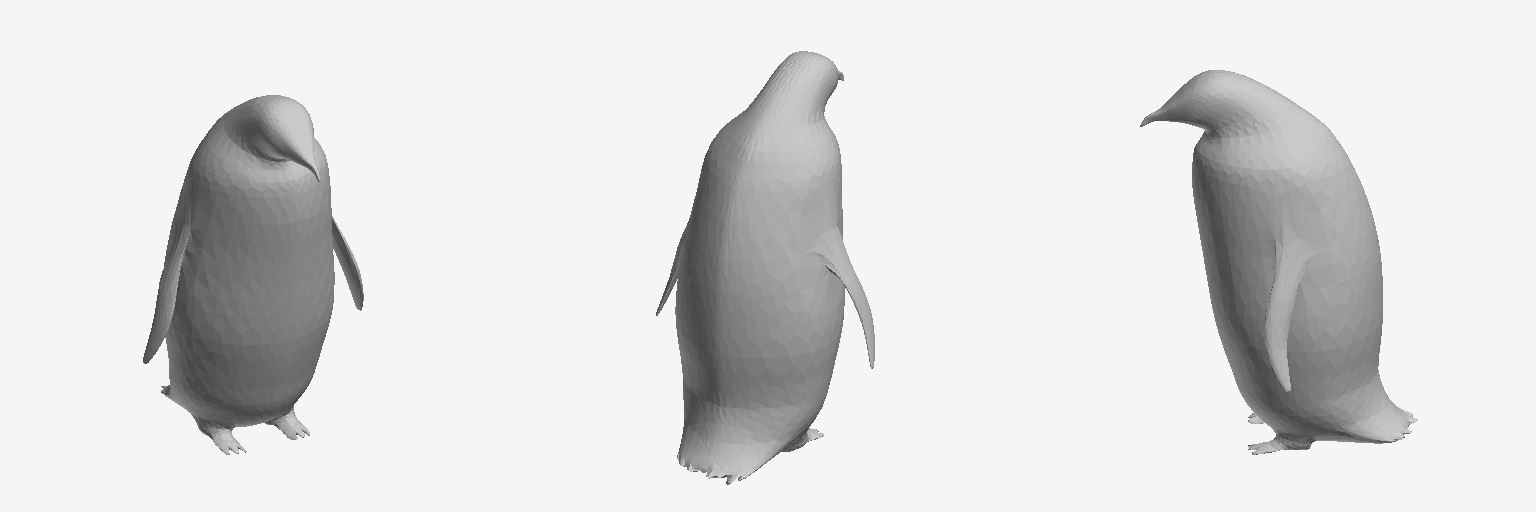
Rendered from penguin.obj.
3 renders of one model, left to right at view 1: azimuth 30°, elevation 25°; view 2: azimuth 150°, elevation 25°; view 3: azimuth 270°, elevation 25°, orthographic.
Parts seen in each view (by area): view 1: Penguin; view 2: Penguin; view 3: Penguin.
Part boxes in pixels (x1,y1,x2,y2): Penguin: (143, 95, 363, 454); Penguin: (656, 51, 874, 484); Penguin: (1140, 70, 1417, 454).
Size of the model in its own units: 0.7506 by 1.19 by 0.8363.